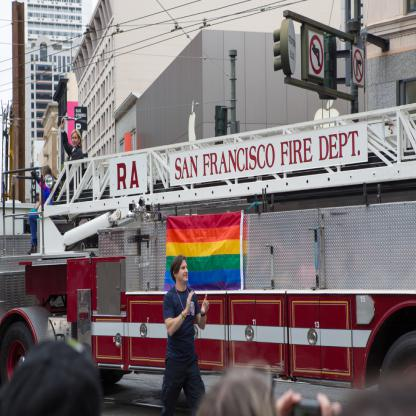Truck: (20, 72, 408, 399)
